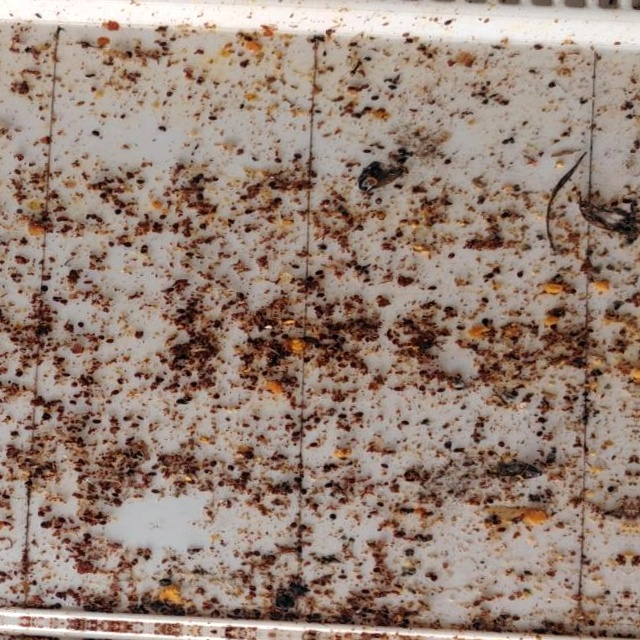varroa: (156, 126, 172, 135), (64, 325, 77, 335), (475, 420, 489, 429), (39, 413, 53, 422), (403, 548, 417, 557), (121, 241, 136, 249), (140, 244, 150, 256), (19, 239, 36, 246), (442, 158, 455, 167), (536, 416, 549, 425), (533, 431, 546, 440), (162, 91, 176, 99), (347, 41, 361, 49), (444, 306, 458, 314), (456, 324, 470, 332), (163, 287, 179, 294), (515, 270, 526, 280), (39, 285, 51, 294), (124, 172, 136, 181), (442, 441, 454, 450), (204, 116, 219, 123), (351, 411, 366, 418), (91, 130, 104, 138), (11, 168, 24, 176), (489, 267, 502, 275), (123, 468, 136, 476), (124, 50, 135, 59), (76, 321, 87, 330), (10, 429, 21, 438), (288, 436, 302, 443), (157, 40, 169, 48), (396, 158, 408, 166), (105, 241, 117, 249), (316, 293, 328, 301), (176, 399, 188, 407), (68, 401, 80, 409), (16, 370, 28, 378), (413, 534, 425, 542), (396, 149, 409, 156), (144, 472, 157, 479), (226, 466, 239, 473), (28, 180, 43, 186), (113, 208, 123, 217), (483, 273, 498, 279), (481, 318, 491, 327), (212, 321, 222, 330), (391, 387, 406, 393), (283, 412, 293, 421), (352, 111, 363, 119), (342, 263, 353, 271), (321, 465, 332, 473), (299, 488, 310, 496), (209, 461, 220, 469), (217, 482, 228, 490), (442, 18, 454, 25), (136, 178, 148, 185), (404, 320, 416, 327), (279, 335, 291, 342), (452, 448, 466, 454), (204, 468, 216, 475), (336, 414, 350, 420), (328, 464, 340, 471), (323, 482, 335, 489), (197, 194, 206, 203), (568, 288, 577, 297), (533, 44, 543, 52), (481, 99, 491, 107), (376, 198, 386, 206), (298, 525, 308, 533), (292, 154, 305, 160), (49, 194, 62, 200), (418, 371, 431, 377), (150, 489, 163, 495), (548, 83, 559, 90), (51, 297, 62, 304), (188, 202, 199, 209), (245, 209, 256, 216), (541, 401, 552, 408), (418, 385, 429, 392), (111, 389, 122, 396), (309, 442, 320, 449), (397, 531, 408, 538), (362, 107, 374, 113), (369, 95, 381, 101), (393, 185, 405, 191), (83, 214, 92, 222), (159, 214, 168, 222), (171, 222, 180, 230), (245, 226, 254, 234), (275, 198, 284, 206), (268, 181, 277, 189), (357, 224, 365, 233), (306, 276, 315, 284), (184, 252, 196, 258), (354, 264, 362, 273), (449, 253, 457, 262), (476, 196, 488, 202), (338, 338, 350, 344), (189, 302, 201, 308), (499, 441, 508, 449), (75, 468, 87, 474), (379, 464, 391, 470), (88, 213, 98, 220), (292, 264, 302, 271), (480, 297, 490, 304), (437, 387, 447, 394), (288, 523, 298, 530), (273, 158, 284, 164), (387, 85, 398, 91), (60, 299, 71, 305), (239, 195, 250, 201), (314, 270, 325, 276), (428, 287, 439, 293), (176, 309, 187, 315), (486, 452, 497, 458), (377, 503, 388, 509), (361, 149, 374, 154), (228, 218, 236, 226), (468, 93, 477, 100), (501, 140, 510, 147), (200, 223, 209, 230), (319, 244, 328, 251), (563, 396, 572, 403), (285, 487, 294, 494), (294, 478, 303, 485), (177, 482, 186, 489), (105, 339, 115, 345), (261, 371, 271, 377), (25, 480, 35, 486), (313, 417, 323, 423), (84, 73, 92, 80), (198, 173, 205, 181), (269, 332, 277, 339), (551, 325, 559, 332), (330, 514, 337, 522), (431, 575, 439, 582), (236, 33, 245, 39), (9, 273, 18, 279), (476, 200, 485, 206), (331, 334, 340, 340), (390, 339, 399, 345), (3, 495, 12, 501), (151, 465, 160, 471), (97, 336, 107, 341), (94, 218, 104, 223), (400, 421, 410, 426), (92, 420, 102, 425), (183, 469, 193, 474), (292, 432, 302, 437), (193, 178, 200, 185), (378, 109, 386, 115), (350, 260, 358, 266), (327, 326, 336, 331), (81, 414, 90, 419), (100, 193, 107, 199), (424, 572, 431, 578), (18, 210, 26, 215), (360, 270, 370, 274), (189, 320, 194, 324)
